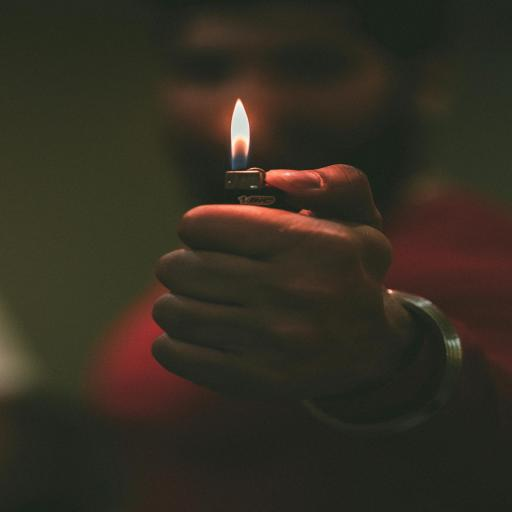lighter: (195, 86, 310, 222)
